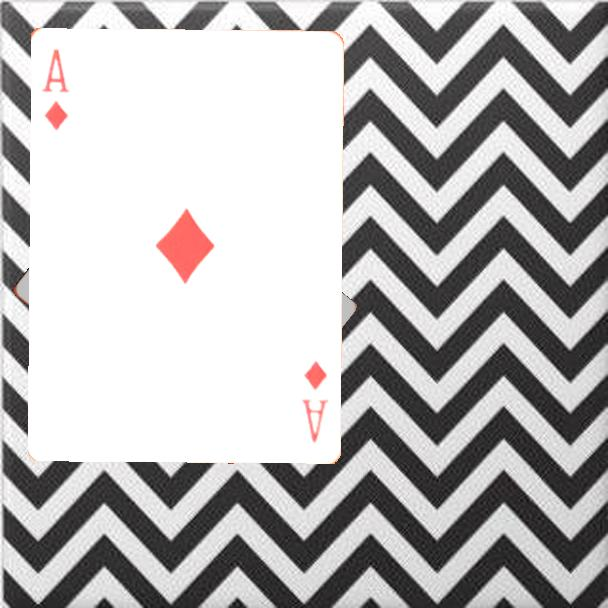d01: (38, 45, 72, 133), (298, 357, 331, 445)
